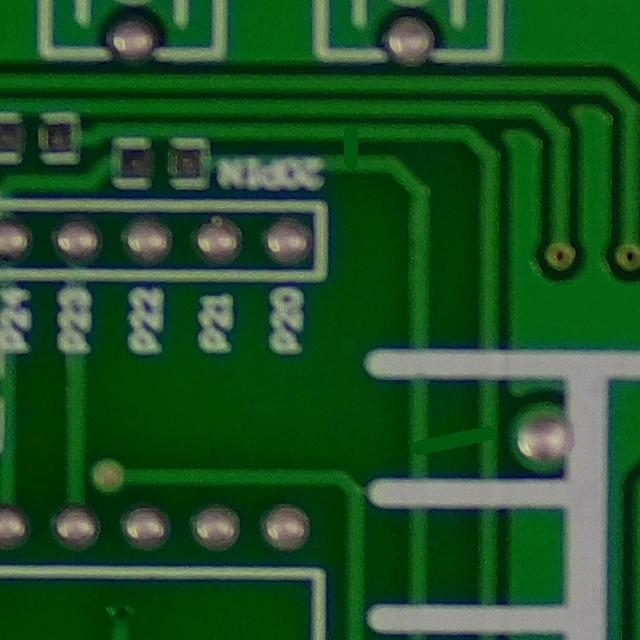short: (390, 399, 505, 486), (315, 117, 385, 185)
